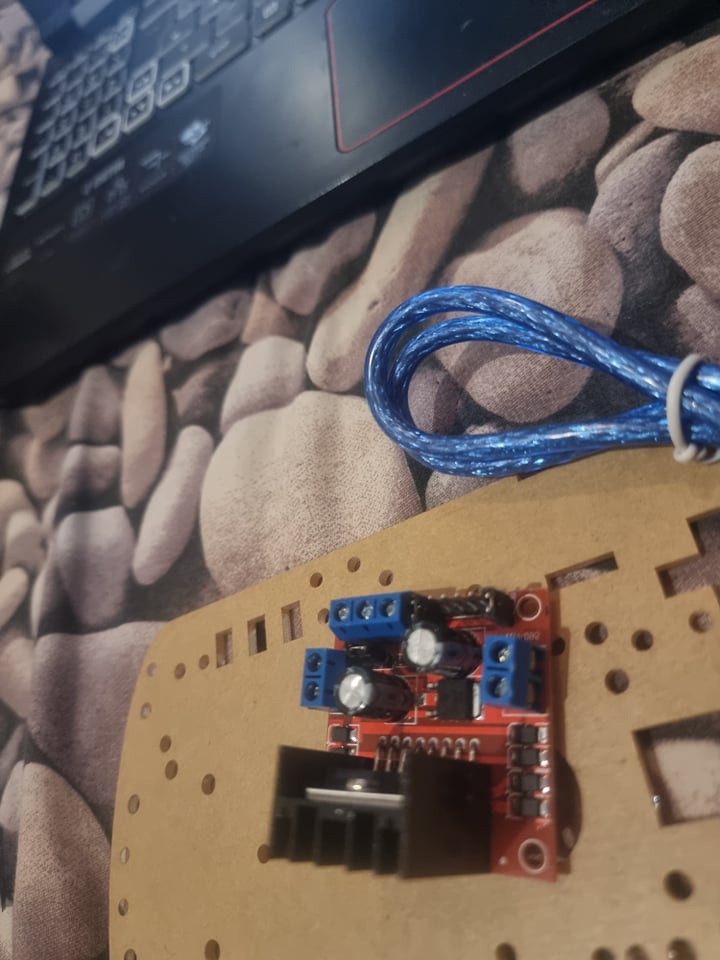MOTOR: (260, 586, 564, 885)
